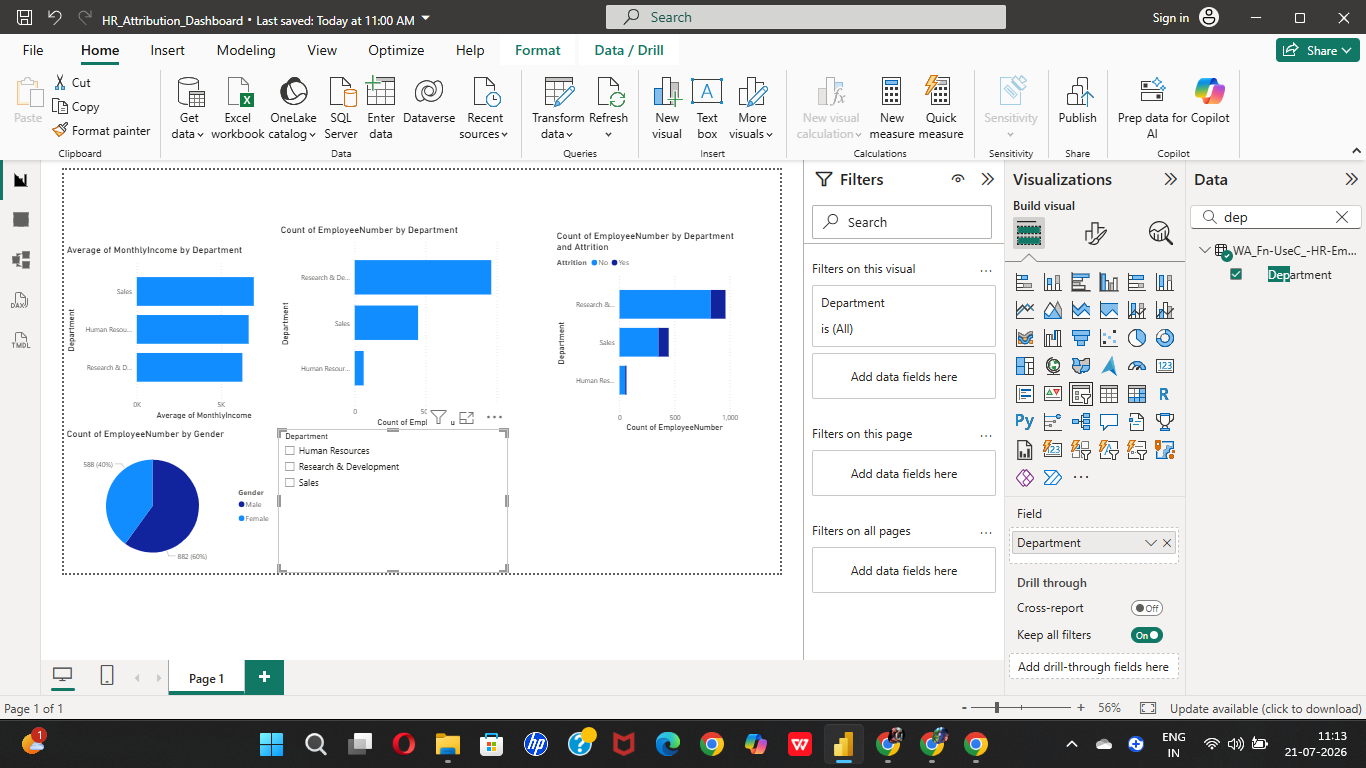

The dashboard page shown, as its layout file describes it:
{"tool":"powerbi","page":{"name":"Page 1","canvas":[1280,720],"ordinal":0},"visuals":[{"type":"barChart","fields":{"Category":["WA_Fn-UseC_-HR-Employee-Attrition.Department"],"Y":["Avg(WA_Fn-UseC_-HR-Employee-Attrition.MonthlyIncome)"]},"box":[0,132.1,382.1,317.9],"z":0},{"type":"clusteredBarChart","fields":{"Category":["WA_Fn-UseC_-HR-Employee-Attrition.Department"],"Y":["Count(WA_Fn-UseC_-HR-Employee-Attrition.EmployeeNumber)"]},"box":[382.1,96.4,410.7,366.1],"z":1000},{"type":"barChart","fields":{"Category":["WA_Fn-UseC_-HR-Employee-Attrition.Department"],"Y":["Count(WA_Fn-UseC_-HR-Employee-Attrition.EmployeeNumber)"],"Series":["WA_Fn-UseC_-HR-Employee-Attrition.Attrition"]},"box":[875,107.1,333.9,366.1],"z":1001},{"type":"pieChart","fields":{"Category":["WA_Fn-UseC_-HR-Employee-Attrition.Gender"],"Y":["CountNonNull(WA_Fn-UseC_-HR-Employee-Attrition.EmployeeNumber)"]},"box":[0,460,382,260],"z":1002},{"type":"slicer","fields":{"Values":["WA_Fn-UseC_-HR-Employee-Attrition.Department"]},"box":[382,462,411,258],"z":1003}]}

Visuals, with their boxes on the page's 1280x720 design canvas (x1, y1, x2, y2). These are canvas units, not pixel positions in the 1366x768 screenshot, which may show the page scaled, cropped or inside an application window:
barChart - WA_Fn-UseC_-HR-Employee-Attrition.Department x Avg(WA_Fn-UseC_-HR-Employee-Attrition.MonthlyIncome): bbox=(0, 132, 382, 450)
clusteredBarChart - WA_Fn-UseC_-HR-Employee-Attrition.Department x Count(WA_Fn-UseC_-HR-Employee-Attrition.EmployeeNumber): bbox=(382, 96, 793, 462)
barChart - WA_Fn-UseC_-HR-Employee-Attrition.Department x Count(WA_Fn-UseC_-HR-Employee-Attrition.EmployeeNumber): bbox=(875, 107, 1209, 473)
pieChart - WA_Fn-UseC_-HR-Employee-Attrition.Gender x CountNonNull(WA_Fn-UseC_-HR-Employee-Attrition.EmployeeNumber): bbox=(0, 460, 382, 720)
slicer - WA_Fn-UseC_-HR-Employee-Attrition.Department: bbox=(382, 462, 793, 720)
